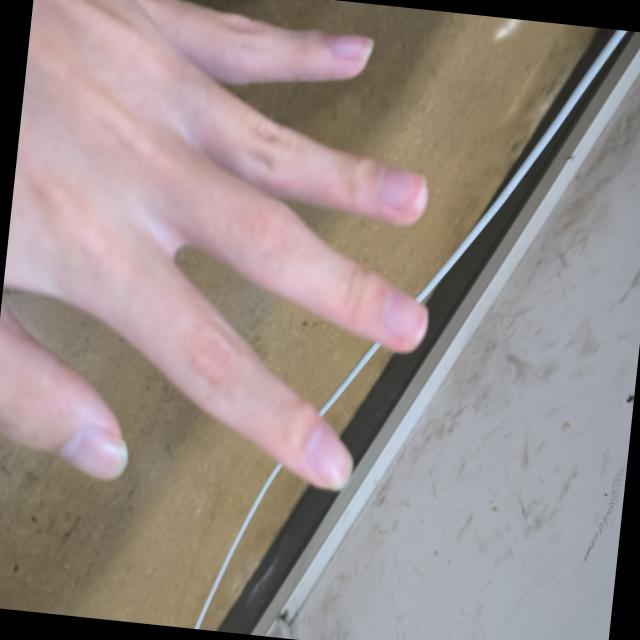Nail: (57, 426, 126, 480), (305, 424, 351, 490), (382, 289, 427, 345), (376, 168, 425, 213), (328, 34, 373, 60)
